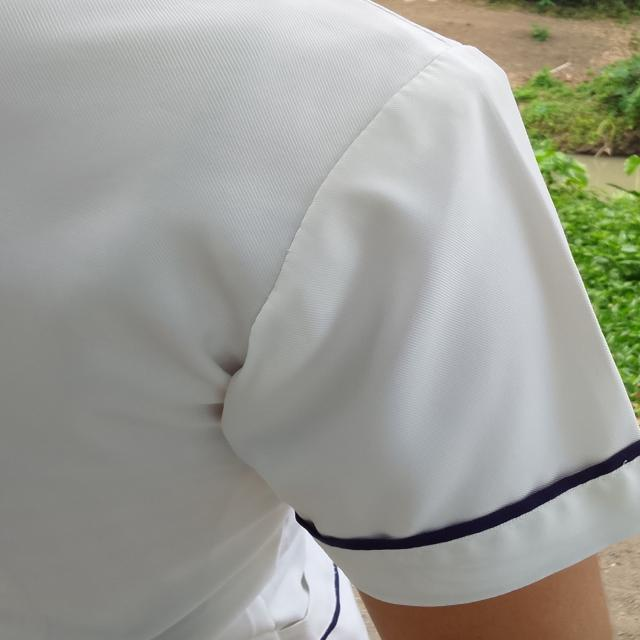education_female_uniform: (0, 4, 640, 609)
